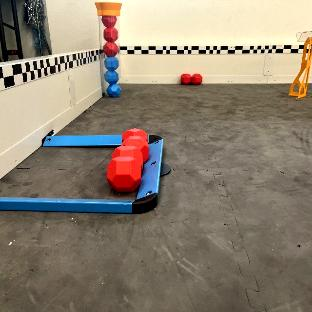V5_BLUE: (104, 57, 120, 97)
V5_RED: (107, 128, 150, 191), (102, 16, 118, 54), (104, 39, 118, 56), (180, 74, 191, 83), (192, 74, 201, 84)
